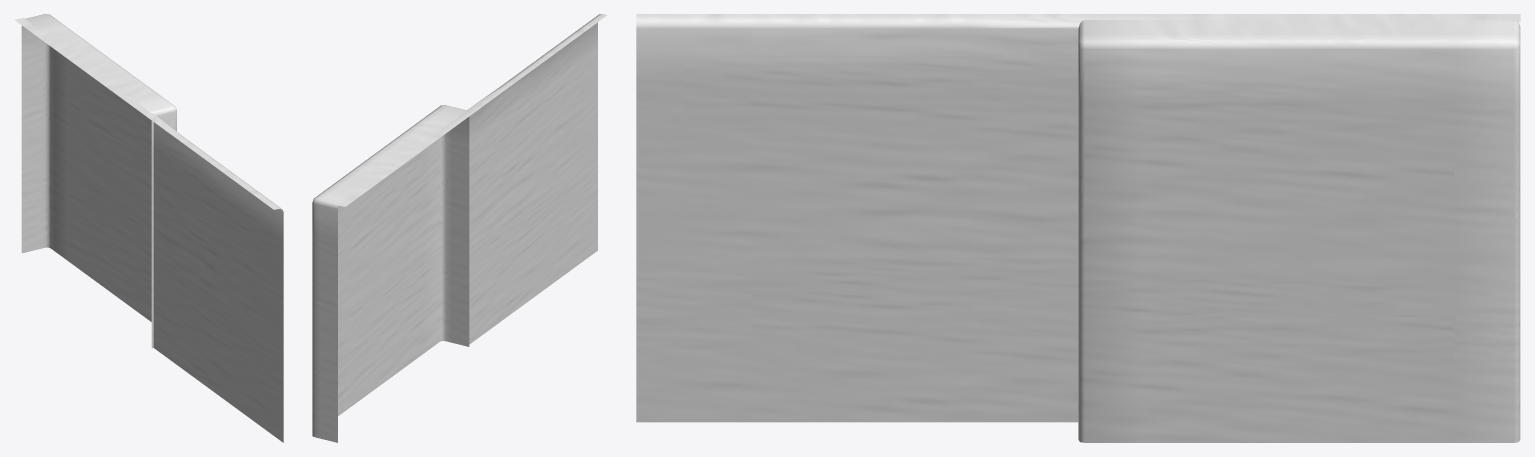
File: dikeR.FBX
3 renders of one model, left to right at view 1: azimuth 30°, elevation 25°; view 2: azimuth 150°, elevation 25°; view 3: azimuth 270°, elevation 25°, orthographic. The views are drawn at different scales.
Parts seen in each view (by area): view 1: Object067; view 2: Object067; view 3: Object067.
Boxes of the visible parts, x1,y1,x2,y2 form: Object067: (15,14,283,442); Object067: (312,14,607,442); Object067: (636,14,1520,442).
Size of the model in its own units: 60.84 by 400 by 800.
